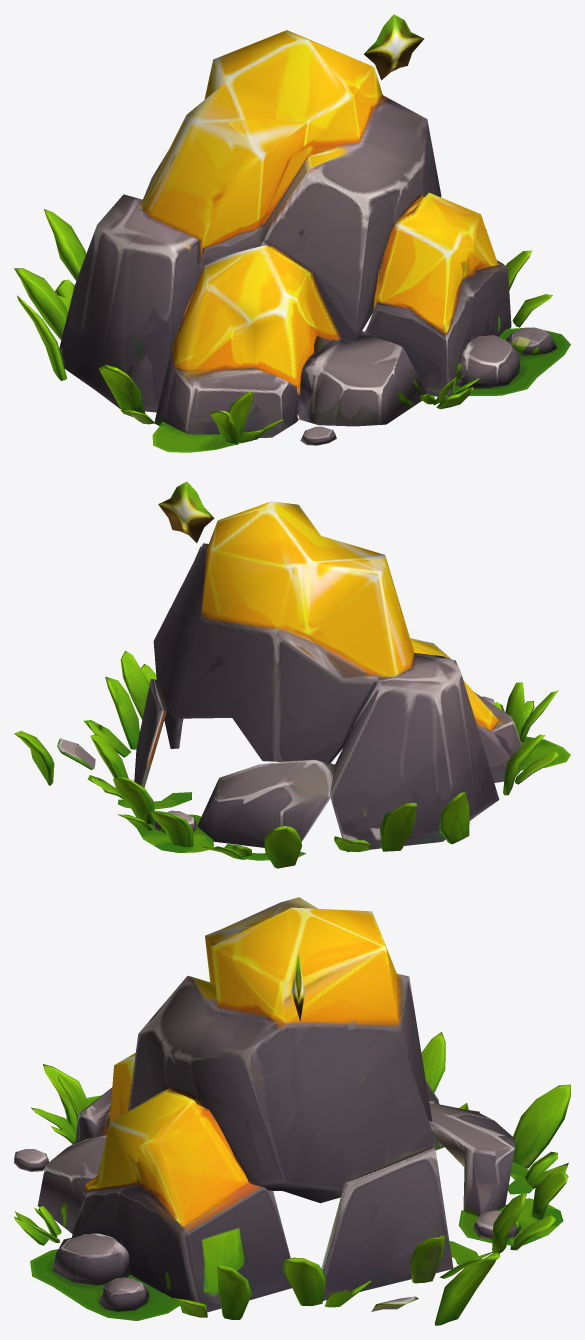
File: etapa100.glb
3 renders of one model, top to bottom at view 1: azimuth 30°, elevation 25°; view 2: azimuth 150°, elevation 25°; view 3: azimuth 270°, elevation 25°, orthographic. The views are drawn at different scales.
Bounding box in the file's own units: 1 × 0.6504 × 1.
Materials: 1 (1 with a texture image).
